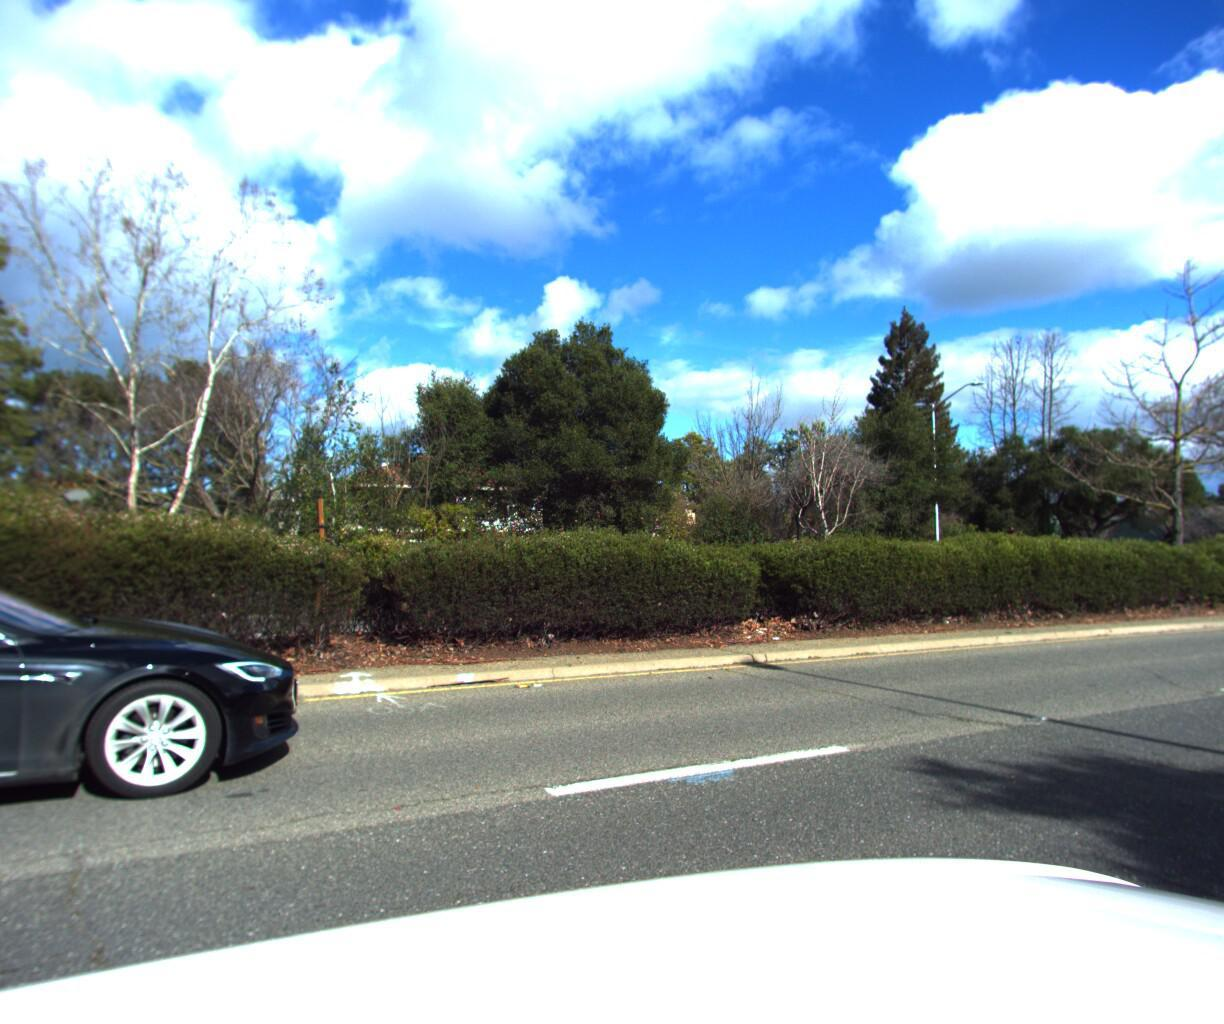car: (0, 534, 342, 993)
